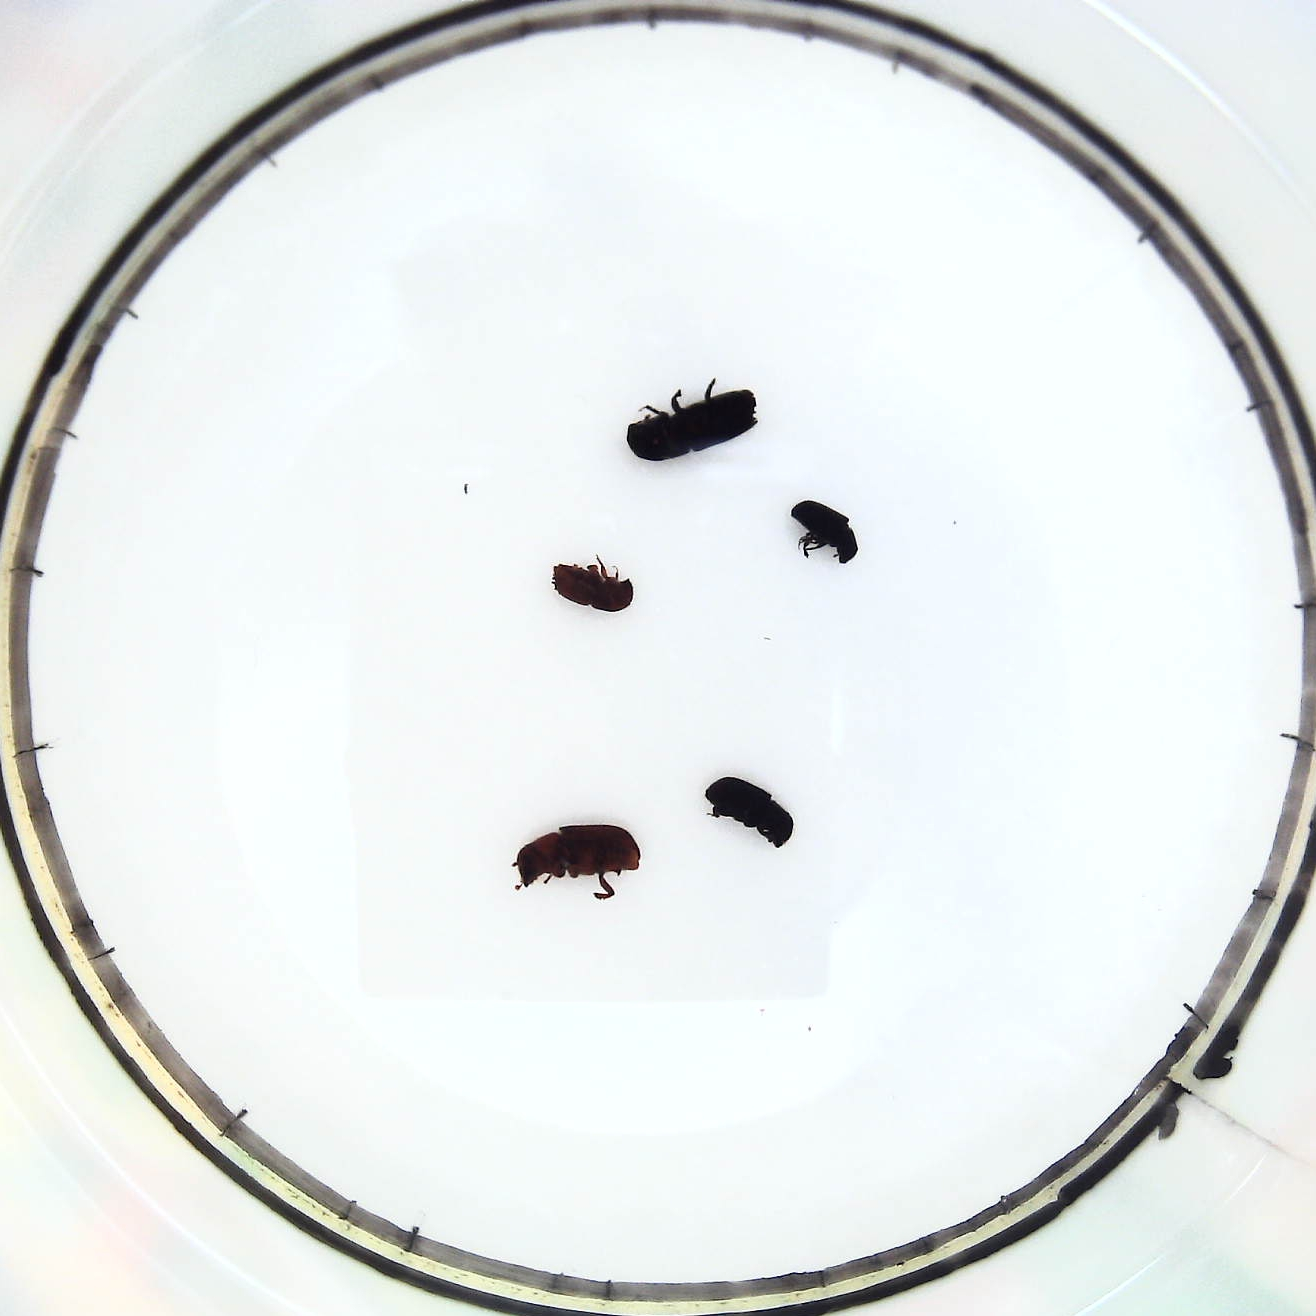Boerner: (623, 375, 765, 465), (550, 556, 642, 622)
Leconte: (510, 822, 647, 904)
armandi: (700, 770, 797, 856)
coleoptera: (786, 492, 864, 570)
